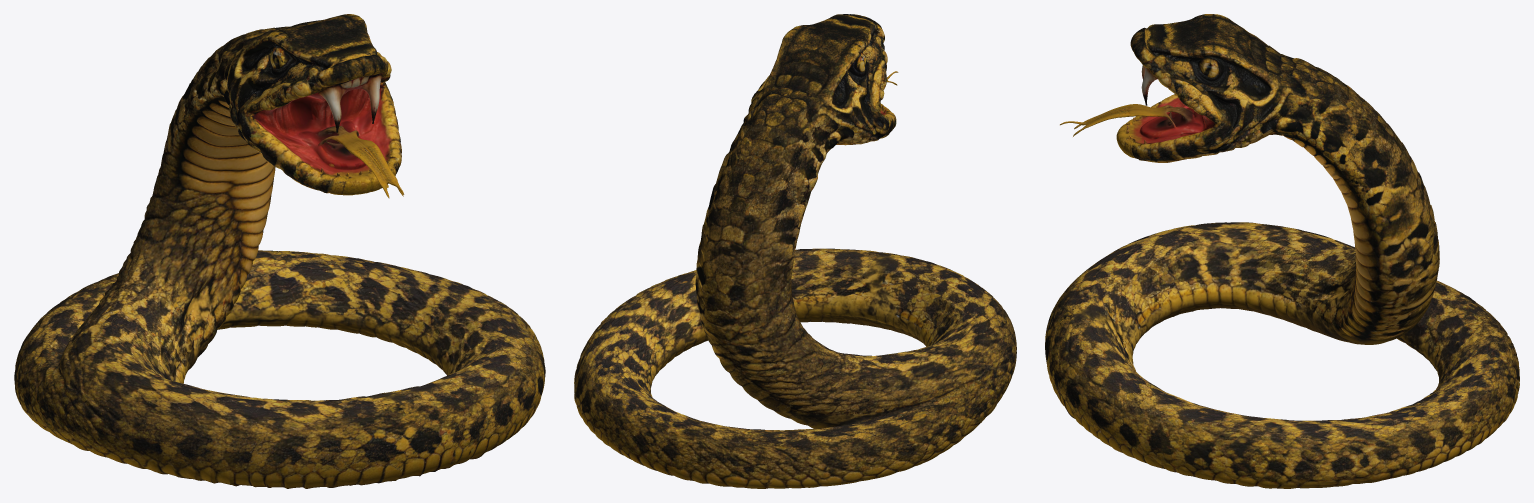
File: serpiente.glb
3 views of the same model, side by side, from view 1: azimuth 30°, elevation 25°; view 2: azimuth 150°, elevation 25°; view 3: azimuth 270°, elevation 25° (orthographic). The views are drawn at different scales.
Parts seen in each view (by area): view 1: tripo_node_7d9372bf-dee3-4581-8266-11a9f93fc951; view 2: tripo_node_7d9372bf-dee3-4581-8266-11a9f93fc951; view 3: tripo_node_7d9372bf-dee3-4581-8266-11a9f93fc951.
Boxes of the visible parts, left/top/right/bottom form: tripo_node_7d9372bf-dee3-4581-8266-11a9f93fc951: left=14, top=14, right=545, bottom=488; tripo_node_7d9372bf-dee3-4581-8266-11a9f93fc951: left=574, top=14, right=1016, bottom=488; tripo_node_7d9372bf-dee3-4581-8266-11a9f93fc951: left=1045, top=14, right=1519, bottom=488.
Bounding box in the file's own units: 0.9927 × 0.8616 × 0.9998.
Materials: 1 (1 with a texture image).
